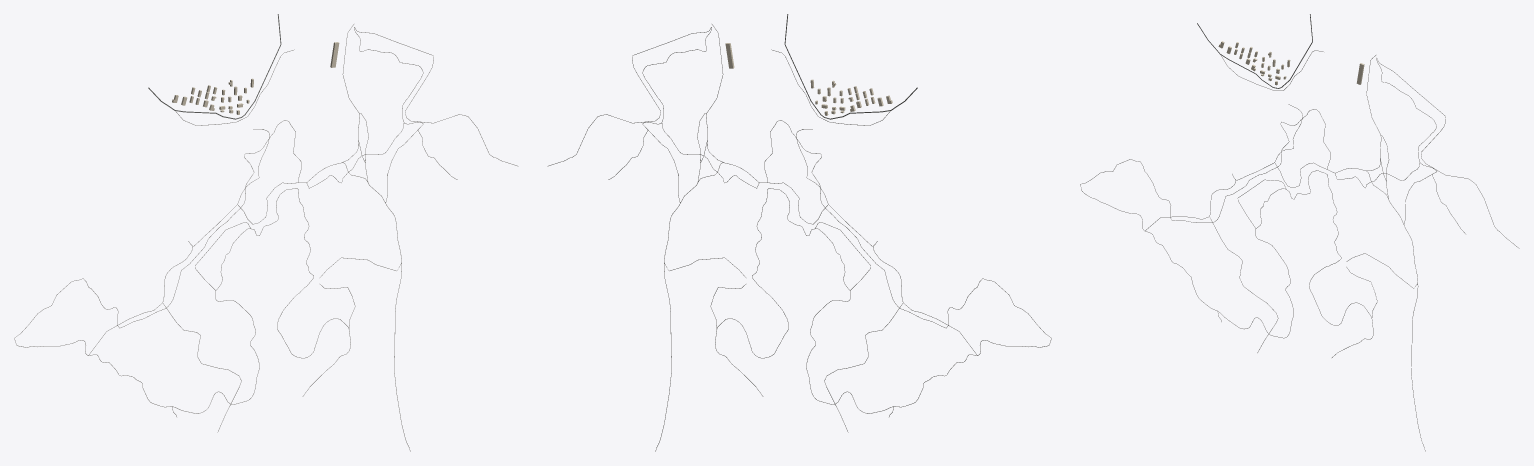
The model's file is historic-palestine-04_21_3461_3158.glb.
3 views of the same model, side by side, from view 1: azimuth 30°, elevation 25°; view 2: azimuth 150°, elevation 25°; view 3: azimuth 330°, elevation 25° (orthographic). The views are drawn at different scales.
Visible parts, largest first — view 1: Road .012; view 2: Road .012; view 3: Road .012.
Boxes of the visible parts, x1,y1,x2,y2 form: Road .012: [14, 120, 301, 413]; Road .012: [764, 120, 1051, 413]; Road .012: [1080, 109, 1330, 338].
Size of the model in its own units: 1817 by 1618 by 8.7.
